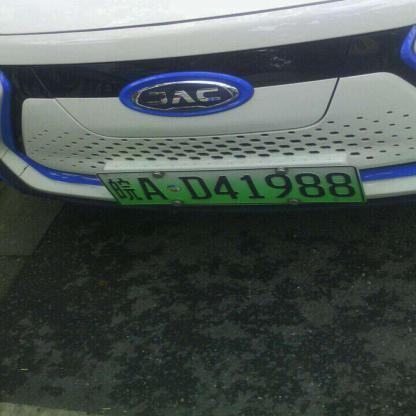lp: (98, 167, 364, 204)
